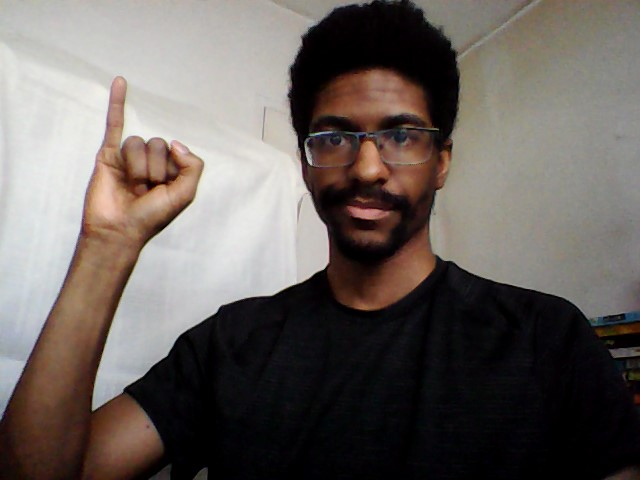i: (78, 72, 208, 255)
